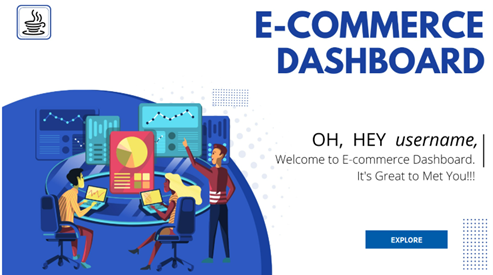

This screenshot's page, from the dashboard's own definition file:
{"tool":"tableau","page":{"name":"E-Commerce Dashboard","canvas":[1366,768],"ordinal":2},"visuals":[{"type":"image","param":"C:/Users/artanggoro/Downloads/PACMANN PLBI 2 - JAVA TEAM ECOMMERCE.twb Files/Ima","box":[0,0,1366,768]},{"type":"dashboard-object","box":[990,633,224,50]}]}

Visuals, with their boxes in screenshot pixels (x1, y1, x2, y2), scaled from the page's 1366x768 canvas onto the 493x275 screenshot:
image: region(0, 0, 492, 274)
dashboard-object: region(357, 227, 438, 245)
